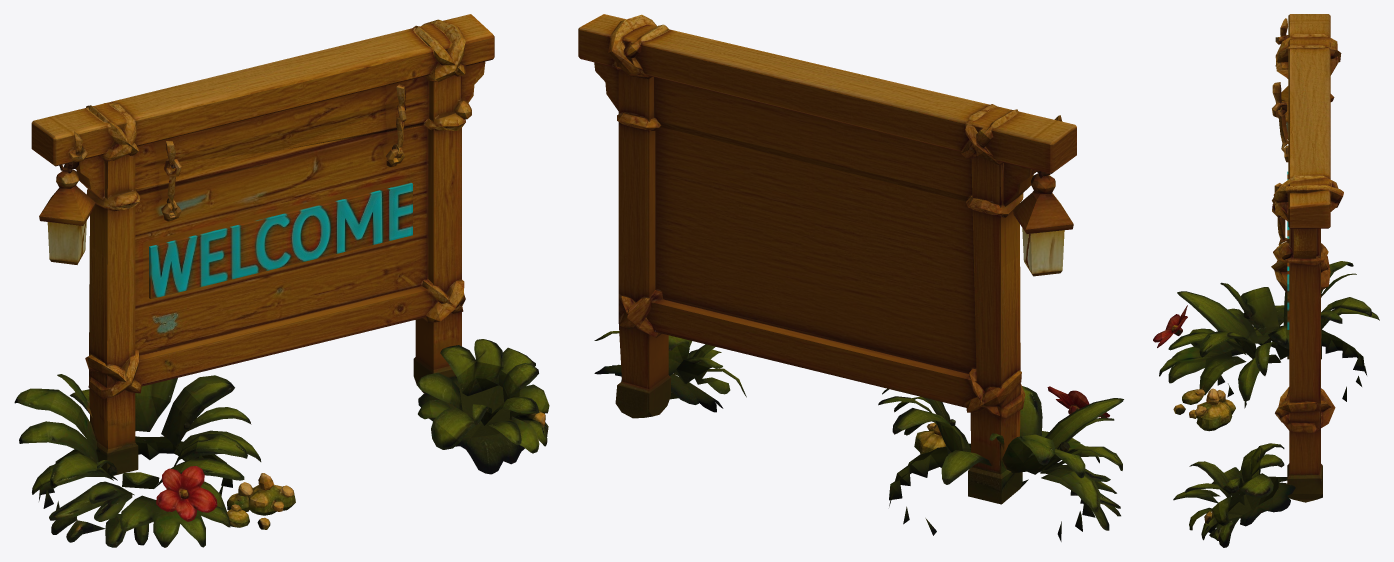
The model's file is tripo_convert_ab71c6ea-44e0-4724-8653-0b83a1617e6a.obj.
The picture shows the model from 3 angles, left to right: view 1: azimuth 30°, elevation 25°; view 2: azimuth 150°, elevation 25°; view 3: azimuth 270°, elevation 25°; orthographic projection. The views are drawn at different scales.
Parts seen in each view (by area): view 1: tripo_node_ab71c6ea-44e0-4724-8653-0b83a1617e6a; view 2: tripo_node_ab71c6ea-44e0-4724-8653-0b83a1617e6a; view 3: tripo_node_ab71c6ea-44e0-4724-8653-0b83a1617e6a.
Part boxes in pixels (x1=…): tripo_node_ab71c6ea-44e0-4724-8653-0b83a1617e6a: x1=14, y1=14, x2=549, y2=547; tripo_node_ab71c6ea-44e0-4724-8653-0b83a1617e6a: x1=578, y1=14, x2=1123, y2=541; tripo_node_ab71c6ea-44e0-4724-8653-0b83a1617e6a: x1=1153, y1=14, x2=1379, y2=547.
Bounding box in the file's own units: 0.998 × 0.791 × 0.459.
1 material, 1 textured.
